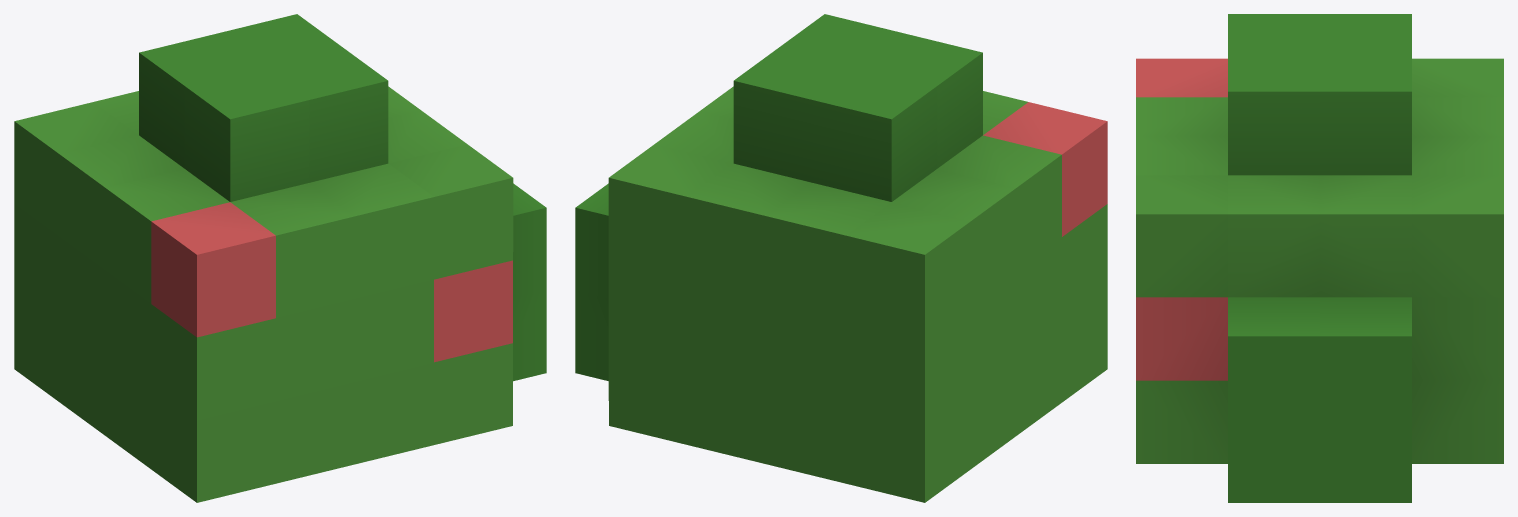
The model's file is bush.glb.
The picture shows the model from 3 angles, left to right: view 1: azimuth 30°, elevation 25°; view 2: azimuth 150°, elevation 25°; view 3: azimuth 270°, elevation 25°; orthographic projection.
Visible parts, largest first — view 1: bush; view 2: bush; view 3: bush.
Boxes of the visible parts, left/top/right/bottom form: bush: left=14, top=14, right=546, bottom=502; bush: left=575, top=14, right=1107, bottom=502; bush: left=1136, top=14, right=1503, bottom=502.
Bounding box in the file's own units: 1.75 × 1.4 × 1.4.
